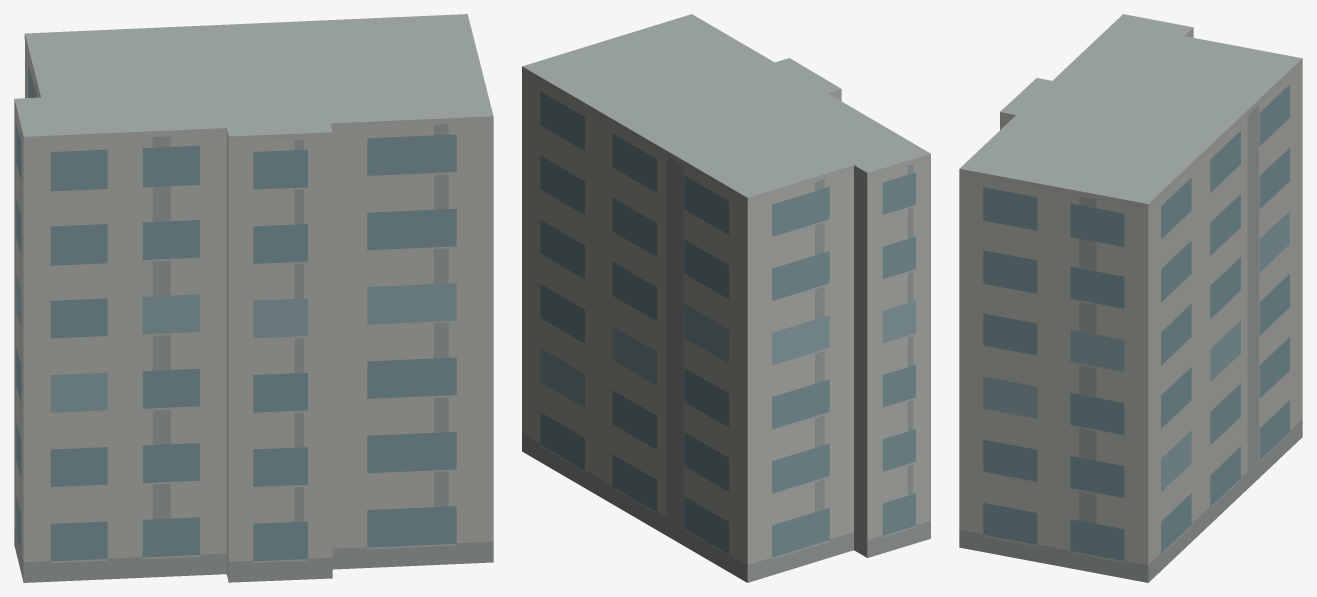
The model's file is survey-upis-32898582.glb.
3 renders of one model, left to right at view 1: azimuth 30°, elevation 25°; view 2: azimuth 150°, elevation 25°; view 3: azimuth 270°, elevation 25°, orthographic. The views are drawn at different scales.
Visible parts, largest first — view 1: survey-upis-32898582.tmp; view 2: survey-upis-32898582.tmp; view 3: survey-upis-32898582.tmp.
Boxes of the visible parts, x1=… form: survey-upis-32898582.tmp: x1=14, y1=14, x2=493, y2=582; survey-upis-32898582.tmp: x1=522, y1=14, x2=930, y2=582; survey-upis-32898582.tmp: x1=959, y1=14, x2=1302, y2=582.
Bounding box in the file's own units: 19.7 × 18.3 × 15.03.
